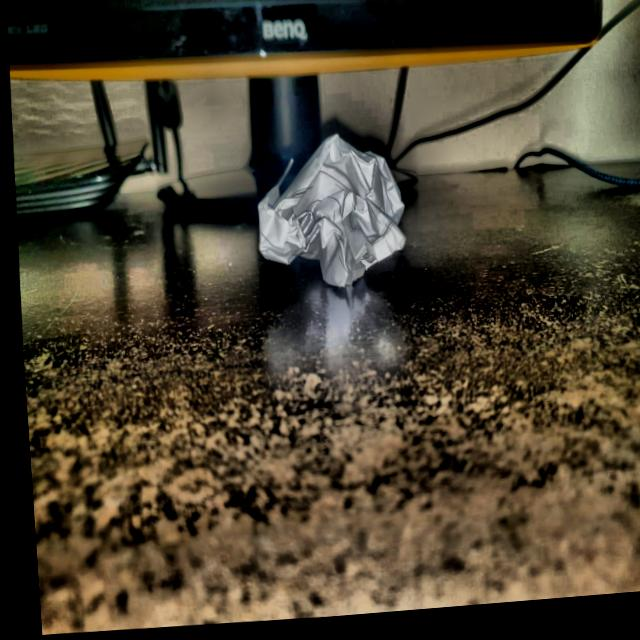Paper: (249, 128, 409, 301)
